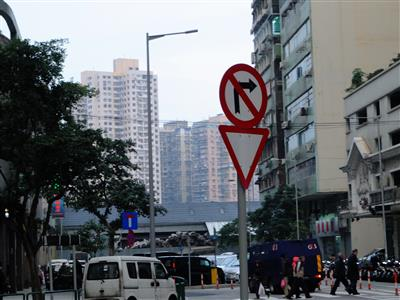deadEnd: (121, 210, 137, 229)
noRightTurn: (218, 62, 268, 130)
noStopping: (126, 229, 136, 246)
yield: (217, 123, 270, 189)
